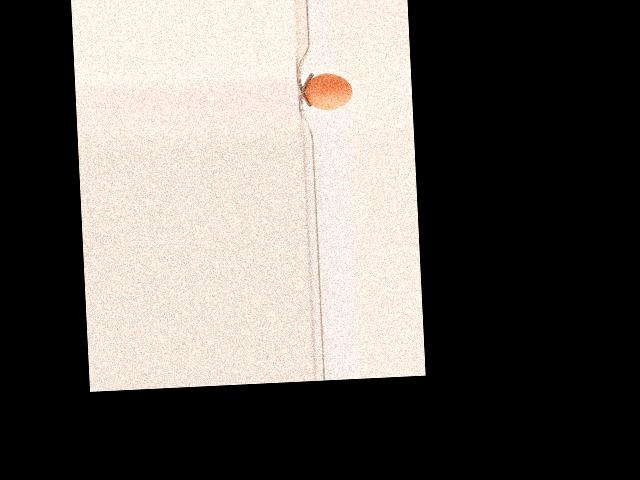egg: (304, 72, 352, 111)
